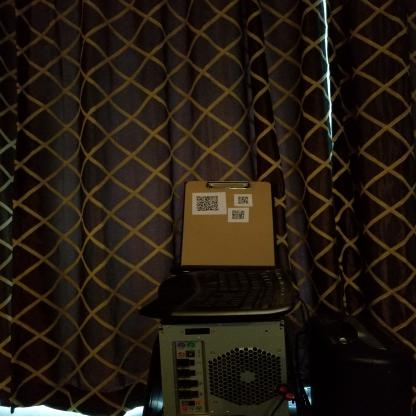qr: (193, 193, 221, 214), (230, 209, 246, 219), (237, 195, 248, 203)
